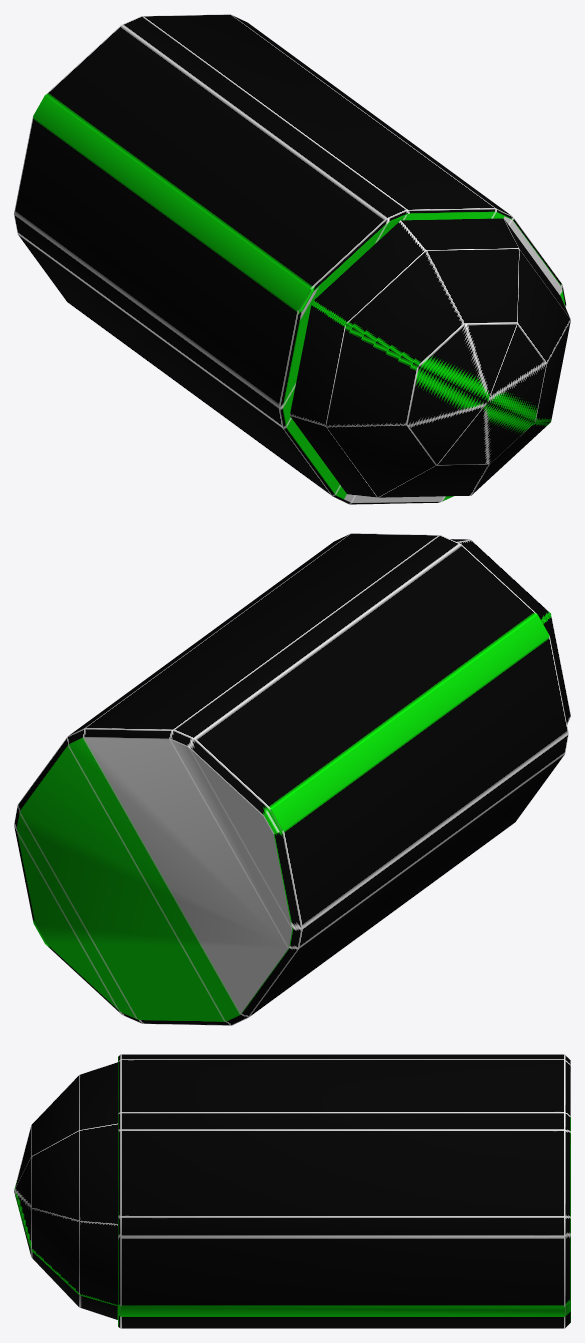
The model's file is grandmaBullet.FBX.
The picture shows the model from 3 angles, top to bottom: view 1: azimuth 30°, elevation 25°; view 2: azimuth 150°, elevation 25°; view 3: azimuth 270°, elevation 25°; orthographic projection. The views are drawn at different scales.
Parts seen in each view (by area): view 1: Cylinder001; view 2: Cylinder001; view 3: Cylinder001.
Boxes of the visible parts, bbox=[...] form: Cylinder001: bbox=[14, 14, 570, 504]; Cylinder001: bbox=[14, 533, 570, 1025]; Cylinder001: bbox=[14, 1054, 570, 1328].
Bounding box in the file's own units: 11.62 × 11.61 × 23.31.
